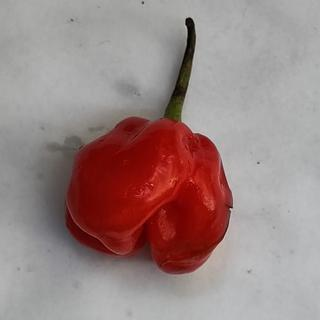Grade-B: (59, 109, 236, 276)
